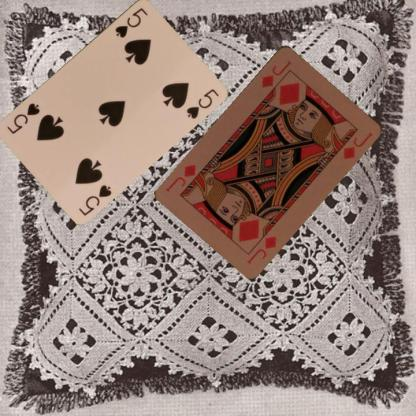5s: (76, 182, 113, 218), (112, 4, 150, 38)
Jd: (244, 233, 279, 264), (259, 58, 293, 89)
